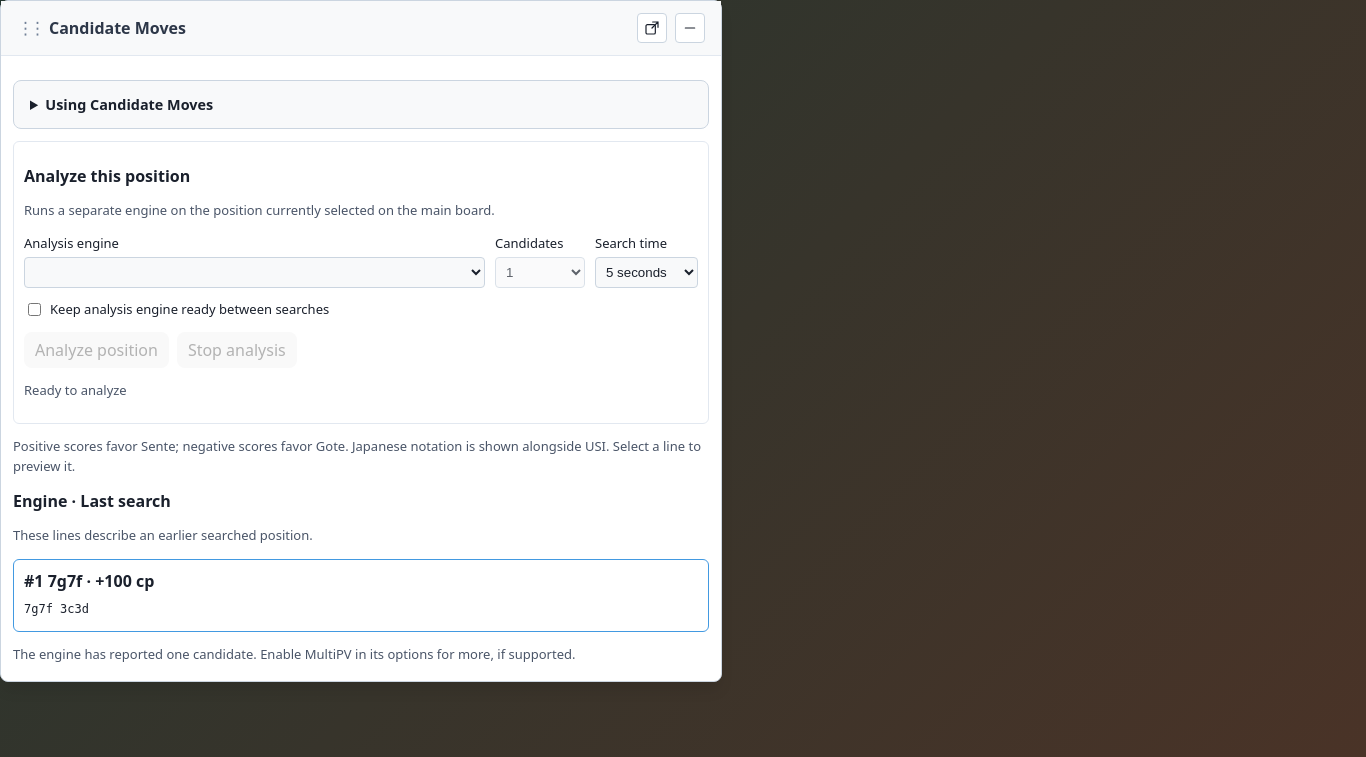
Test: opens validated mate lines as independent saved study branches
Press Digit3
(page scrolled)
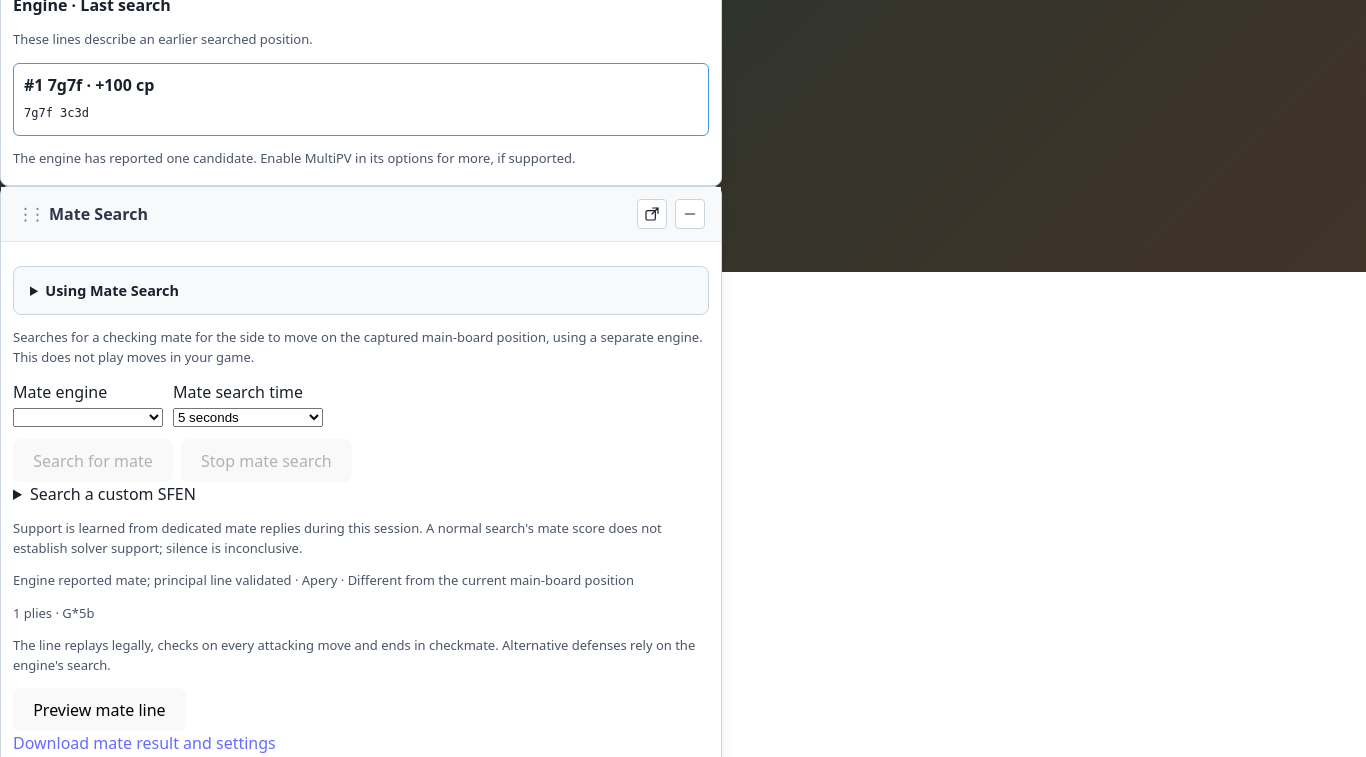
Click the button "Preview mate line": point(99, 710) [13,688,186,731]
(page scrolled)
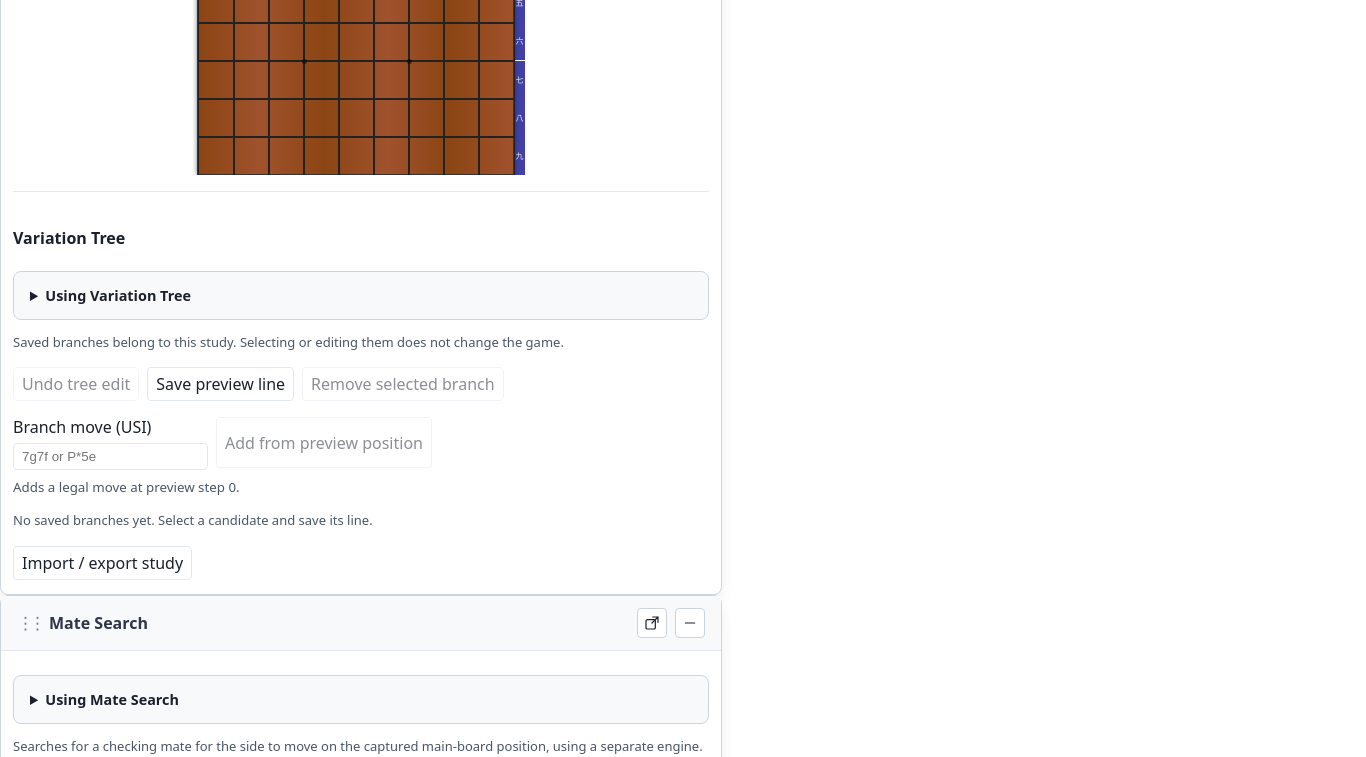
Click the button "Save preview line": point(221, 384) [147,367,294,401]
(page scrolled)
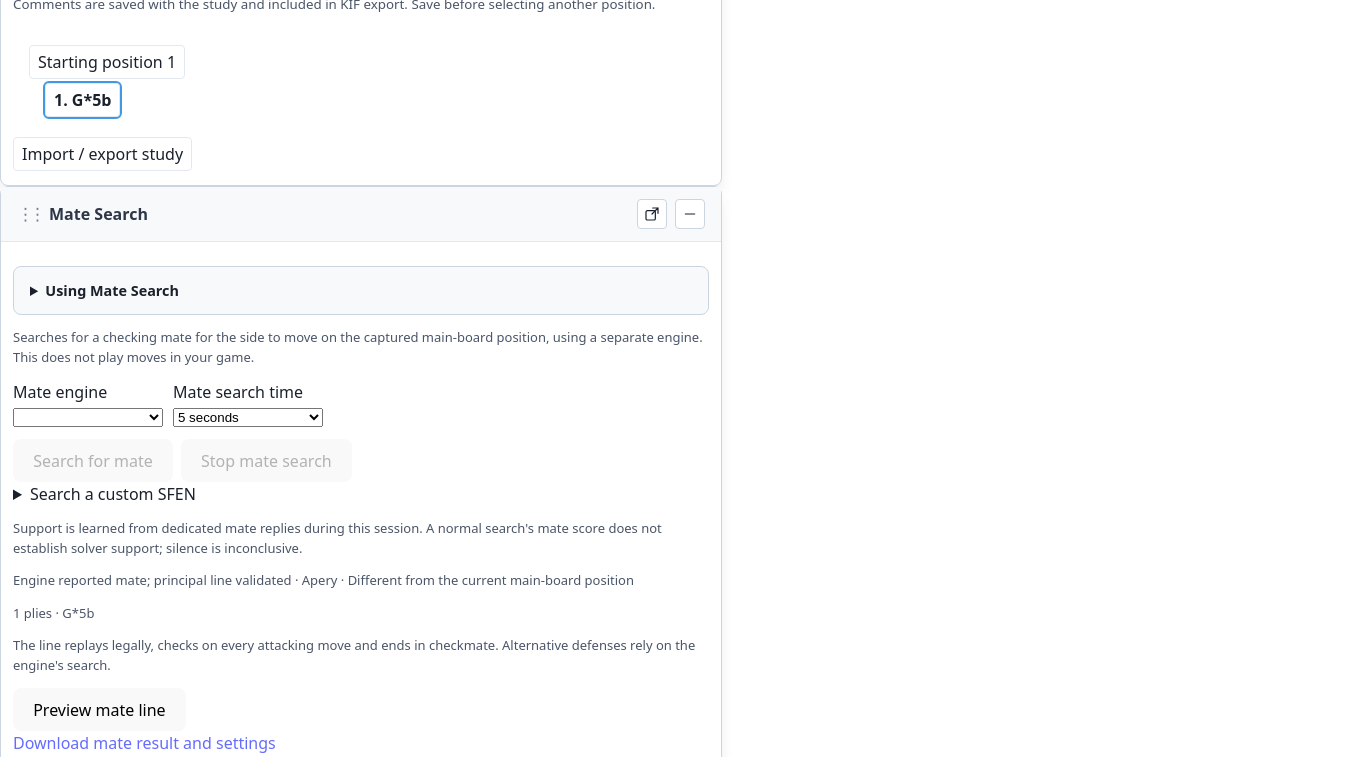
Result: the button "1. G*5b" is shown at [45,83,120,117]
